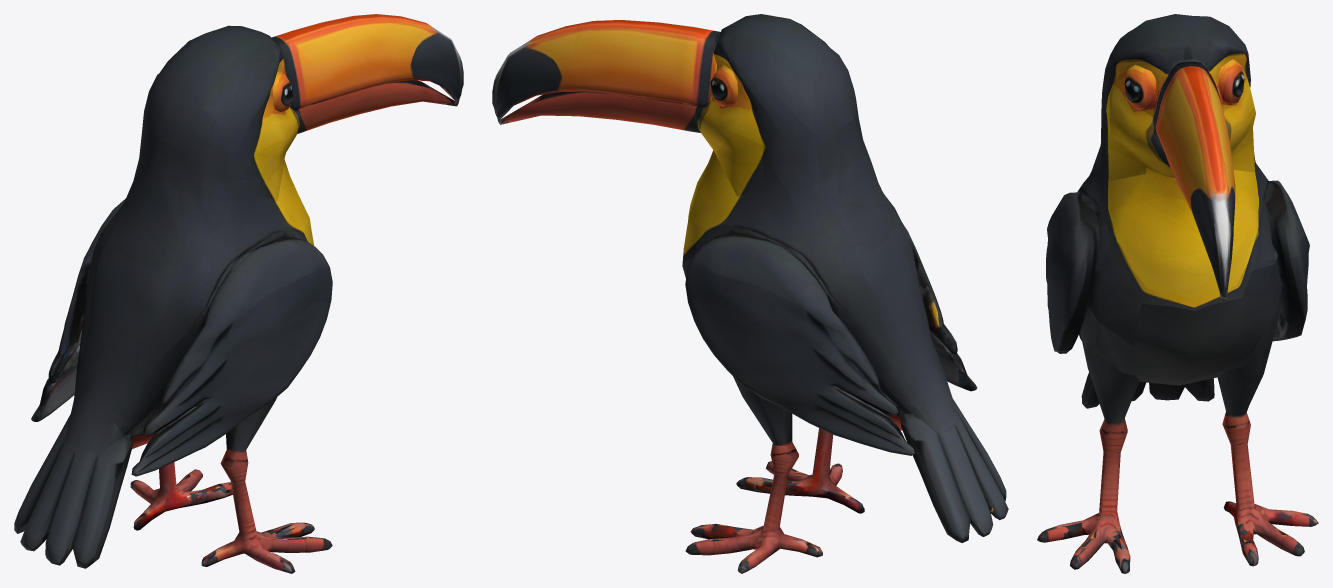
Rendered from tripo_convert_2268d65a-9420-49a0-bef9-83b321ff756d.obj.
3 views of the same model, side by side, from view 1: azimuth 30°, elevation 25°; view 2: azimuth 150°, elevation 25°; view 3: azimuth 270°, elevation 25° (orthographic). The views are drawn at different scales.
Visible parts, largest first — view 1: tripo_part_4, tripo_part_1, tripo_part_12, tripo_part_0, tripo_part_6, tripo_part_2, tripo_part_11, tripo_part_10, tripo_part_7, tripo_part_3, tripo_part_8; view 2: tripo_part_4, tripo_part_2, tripo_part_12, tripo_part_0, tripo_part_7, tripo_part_11, tripo_part_10, tripo_part_6, tripo_part_1, tripo_part_5, tripo_part_9; view 3: tripo_part_4, tripo_part_3, tripo_part_12, tripo_part_6, tripo_part_1, tripo_part_10, tripo_part_7, tripo_part_2, tripo_part_5, tripo_part_0, tripo_part_8, tripo_part_9.
Boxes of the visible parts, box(x1,y1,x2,y2) form: tripo_part_4: box(65, 25, 313, 457); tripo_part_1: box(131, 235, 332, 476); tripo_part_12: box(271, 14, 463, 109); tripo_part_0: box(14, 414, 132, 568); tripo_part_6: box(201, 397, 332, 573); tripo_part_2: box(31, 198, 125, 421); tripo_part_11: box(297, 80, 458, 133); tripo_part_10: box(255, 95, 300, 201); tripo_part_7: box(130, 462, 232, 530); tripo_part_3: box(124, 383, 166, 448); tripo_part_8: box(272, 71, 292, 111); tripo_part_4: box(682, 14, 956, 432); tripo_part_2: box(685, 230, 915, 455); tripo_part_12: box(492, 20, 720, 121); tripo_part_0: box(900, 399, 1008, 542); tripo_part_7: box(685, 442, 822, 573); tripo_part_11: box(498, 92, 700, 132); tripo_part_10: box(694, 88, 763, 196); tripo_part_6: box(736, 428, 864, 513); tripo_part_1: box(903, 224, 977, 391); tripo_part_5: box(733, 376, 792, 445); tripo_part_9: box(710, 65, 737, 106); tripo_part_4: box(1077, 14, 1278, 346); tripo_part_3: box(1095, 264, 1282, 385); tripo_part_12: box(1153, 61, 1235, 299); tripo_part_6: box(1037, 307, 1138, 573); tripo_part_1: box(1046, 192, 1099, 353); tripo_part_10: box(1105, 64, 1255, 180); tripo_part_7: box(1222, 412, 1318, 566); tripo_part_2: box(1267, 180, 1309, 341); tripo_part_5: box(1217, 285, 1282, 415); tripo_part_0: box(1081, 372, 1214, 408); tripo_part_8: box(1123, 65, 1156, 110); tripo_part_9: box(1216, 59, 1244, 112).
Bounding box in the file's own units: 0.9367 × 0.9476 × 0.4574.
Materials: 1 (1 with a texture image).
